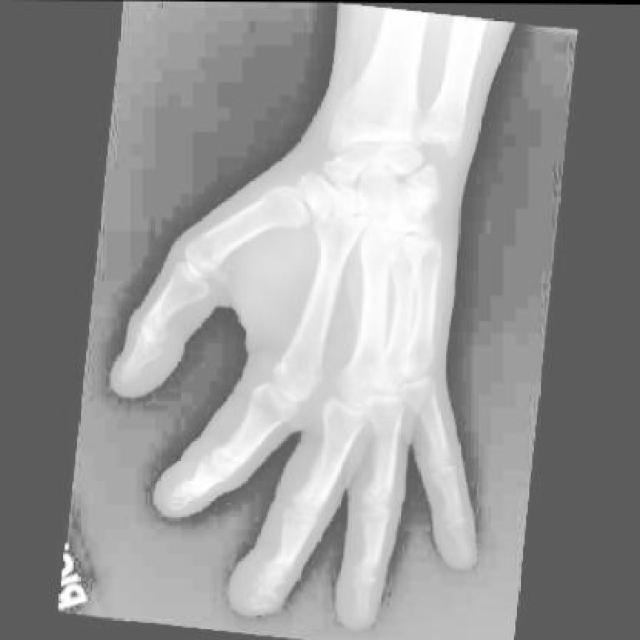Fracture: (240, 580, 282, 617), (165, 492, 190, 517)
